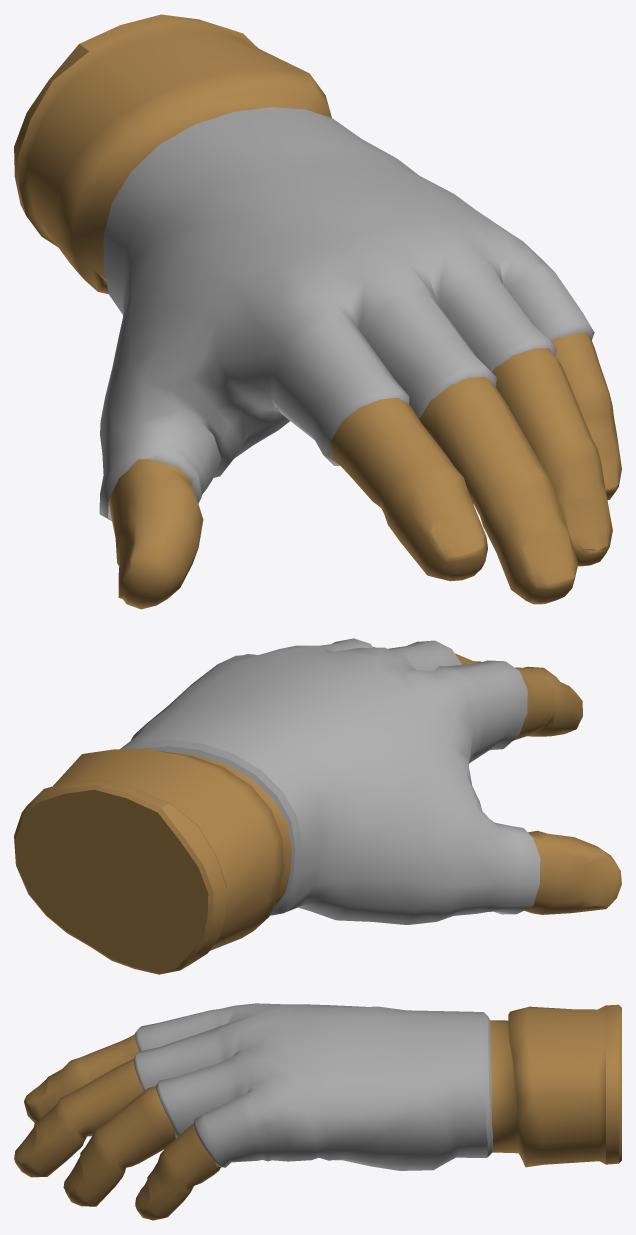
The model's file is Hand_L.fbx.
3 views of the same model, one above another, from view 1: azimuth 30°, elevation 25°; view 2: azimuth 150°, elevation 25°; view 3: azimuth 270°, elevation 25° (orthographic). The views are drawn at different scales.
Parts seen in each view (by area): view 1: Glove_L, Hand_L; view 2: Glove_L, Hand_L; view 3: Glove_L, Hand_L.
Part boxes in pixels (bbox=[...]): Glove_L: bbox=[99, 107, 594, 520]; Hand_L: bbox=[14, 14, 621, 609]; Glove_L: bbox=[120, 638, 540, 924]; Hand_L: bbox=[14, 647, 621, 974]; Glove_L: bbox=[133, 1003, 493, 1170]; Hand_L: bbox=[14, 1004, 621, 1220].
Size of the model in its own units: 185 by 112 by 312.
